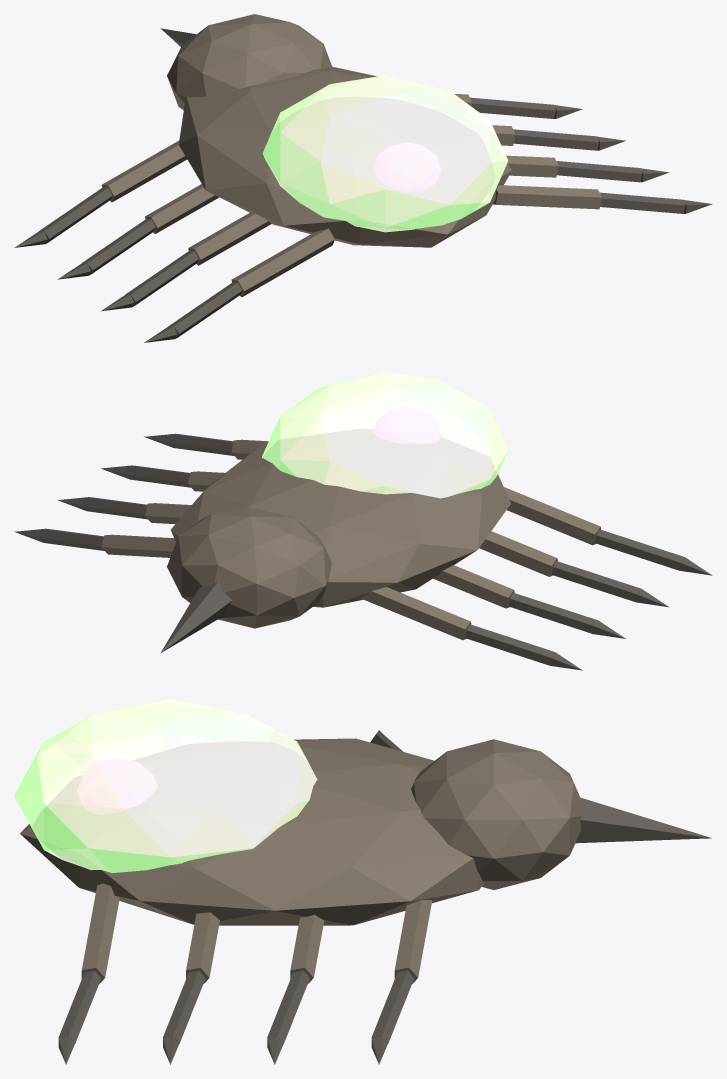
Rendered from 04_siphon_tick.glb.
3 renders of one model, top to bottom at view 1: azimuth 30°, elevation 25°; view 2: azimuth 150°, elevation 25°; view 3: azimuth 270°, elevation 25°, orthographic. The views are drawn at different scales.
Visible parts, largest first — view 1: siphon_tick_translucent_energy_abdomen, siphon_tick_floor_camouflage_carapace, siphon_tick_small_head, siphon_tick_leg_upper_-1_3, siphon_tick_leg_upper_1_3, siphon_tick_leg_upper_-1_0, siphon_tick_leg_upper_-1_2, siphon_tick_leg_upper_-1_1, siphon_tick_leg_lower_1_1, siphon_tick_leg_lower_1_3, siphon_tick_leg_lower_1_2, siphon_tick_leg_lower_1_0 (+5 smaller); view 2: siphon_tick_translucent_energy_abdomen, siphon_tick_floor_camouflage_carapace, siphon_tick_small_head, siphon_tick_leg_upper_-1_0, siphon_tick_leg_upper_-1_3, siphon_tick_energy_proboscis, siphon_tick_leg_upper_-1_2, siphon_tick_leg_upper_-1_1, siphon_tick_leg_upper_1_0, siphon_tick_leg_lower_-1_3, siphon_tick_leg_lower_-1_2, siphon_tick_leg_lower_-1_0 (+7 smaller); view 3: siphon_tick_translucent_energy_abdomen, siphon_tick_floor_camouflage_carapace, siphon_tick_small_head, siphon_tick_energy_proboscis, siphon_tick_leg_upper_1_3, siphon_tick_leg_upper_1_0, siphon_tick_leg_upper_1_2, siphon_tick_leg_upper_1_1, siphon_tick_leg_lower_1_1, siphon_tick_leg_lower_1_3, siphon_tick_leg_lower_1_0, siphon_tick_leg_lower_1_2.
Part boxes in pixels (x1,y1,x2,y2): siphon_tick_translucent_energy_abdomen: (262, 75, 508, 232); siphon_tick_floor_camouflage_carapace: (178, 66, 511, 247); siphon_tick_small_head: (167, 14, 332, 110); siphon_tick_leg_upper_-1_3: (231, 228, 334, 297); siphon_tick_leg_upper_1_3: (493, 185, 601, 209); siphon_tick_leg_upper_-1_0: (101, 140, 187, 202); siphon_tick_leg_upper_-1_2: (188, 212, 271, 265); siphon_tick_leg_upper_-1_1: (145, 184, 218, 233); siphon_tick_leg_lower_1_1: (513, 129, 598, 150); siphon_tick_leg_lower_1_3: (600, 192, 685, 213); siphon_tick_leg_lower_1_2: (556, 161, 642, 182); siphon_tick_leg_lower_1_0: (470, 97, 555, 118); siphon_tick_translucent_energy_abdomen: (262, 371, 508, 498); siphon_tick_floor_camouflage_carapace: (171, 441, 510, 607); siphon_tick_small_head: (167, 506, 331, 628); siphon_tick_leg_upper_-1_0: (361, 587, 471, 640); siphon_tick_leg_upper_-1_3: (504, 487, 600, 545); siphon_tick_energy_proboscis: (160, 582, 232, 653); siphon_tick_leg_upper_-1_2: (479, 531, 557, 576); siphon_tick_leg_upper_-1_1: (433, 565, 514, 608); siphon_tick_leg_upper_1_0: (101, 534, 175, 557); siphon_tick_leg_lower_-1_3: (594, 529, 684, 570); siphon_tick_leg_lower_-1_2: (551, 561, 641, 602); siphon_tick_leg_lower_-1_0: (465, 624, 554, 665); siphon_tick_translucent_energy_abdomen: (14, 699, 317, 872); siphon_tick_floor_camouflage_carapace: (20, 738, 484, 925); siphon_tick_small_head: (411, 739, 582, 889); siphon_tick_energy_proboscis: (575, 797, 711, 843); siphon_tick_leg_upper_1_3: (81, 883, 119, 983); siphon_tick_leg_upper_1_0: (394, 900, 432, 983); siphon_tick_leg_upper_1_2: (186, 912, 219, 983); siphon_tick_leg_upper_1_1: (290, 914, 324, 983); siphon_tick_leg_lower_1_1: (267, 970, 309, 1043); siphon_tick_leg_lower_1_3: (58, 970, 101, 1043); siphon_tick_leg_lower_1_0: (371, 970, 414, 1043); siphon_tick_leg_lower_1_2: (163, 970, 205, 1043).
Size of the model in its own units: 1.52 by 0.382 by 1.34.
